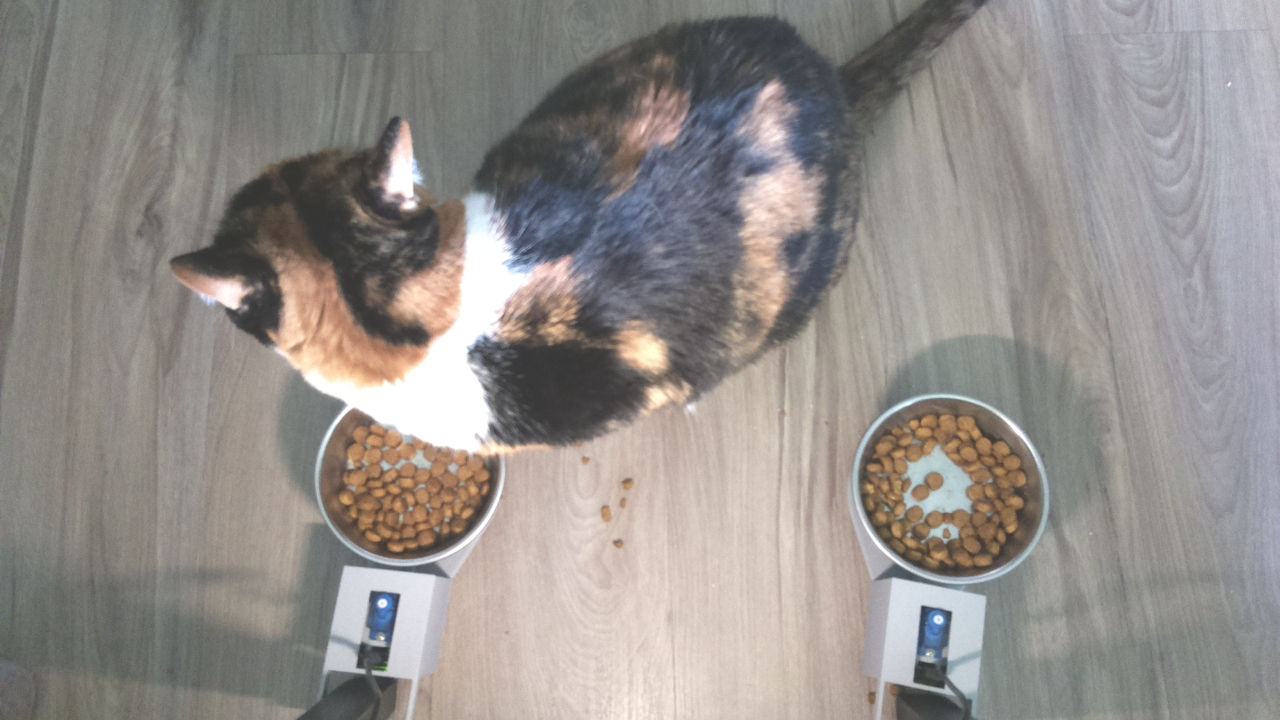bella: (163, 103, 473, 371)
open_bowl: (848, 385, 1048, 587), (309, 411, 508, 568)
